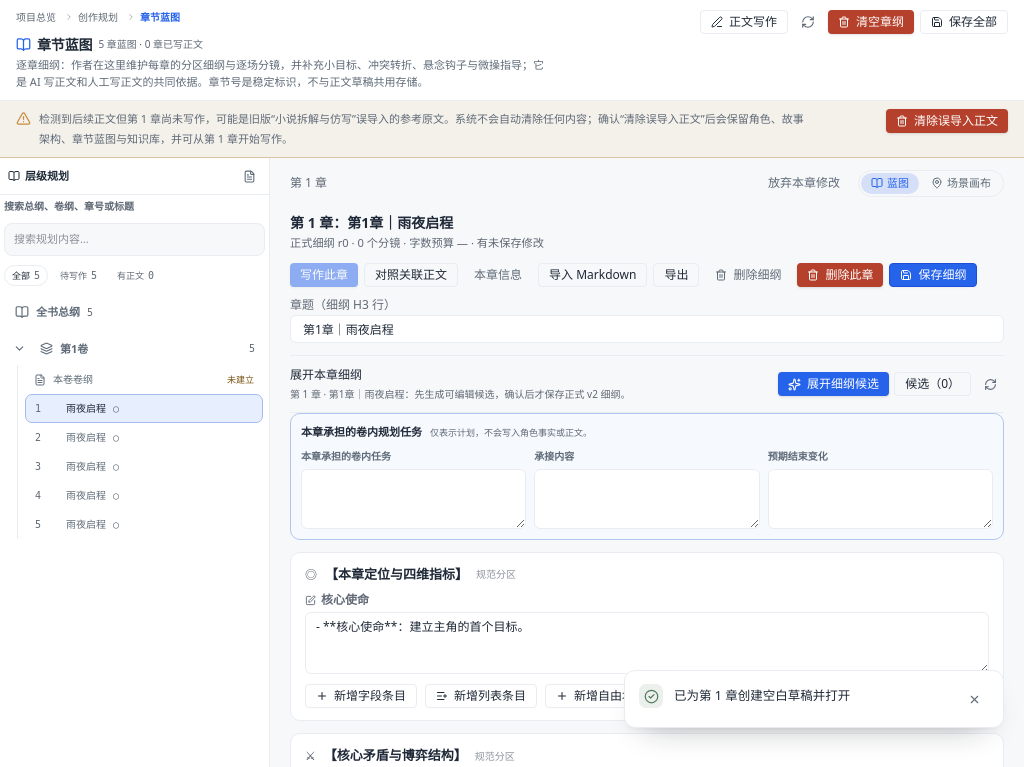
Test: ChapterCardEditor writing entry › requires explicit recovery before writing Chapter 1 when legacy-imported finalized text exists for Chapters 2 through 5
This screenshot has width=1024, height=767.
Expected: the text "新建第1章正文" is not shown
Click the button "清除误导入正文": (947, 121) [886, 109, 1008, 133]
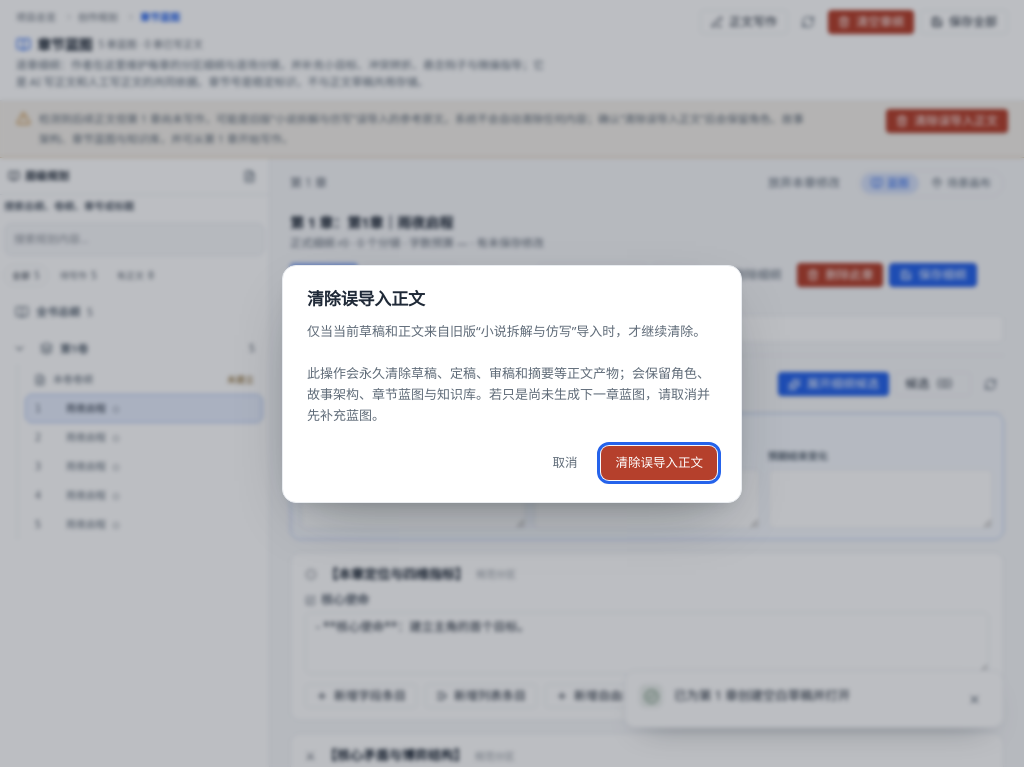
Expected: the dialog is shown, [282, 264, 742, 503]
Expected: the button "清除误导入正文" is shown
Click the button "清除误导入正文": (659, 464) [602, 446, 717, 480]
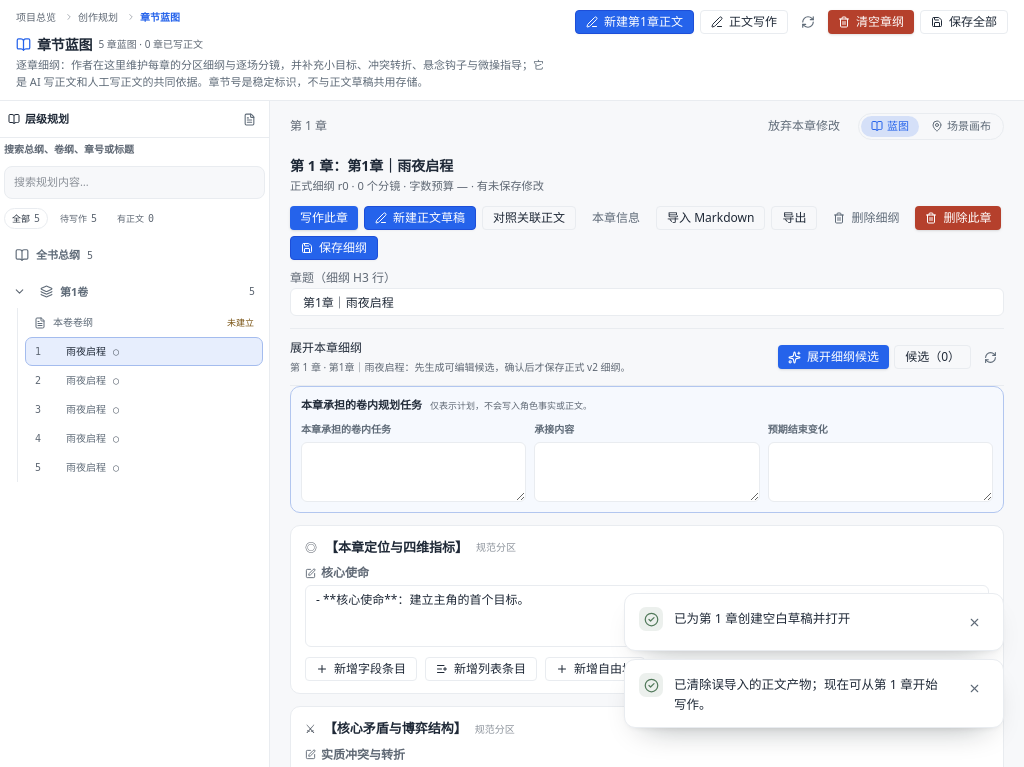
Expected: the text "新建第1章正文" is shown, [575, 10, 694, 34]
Expected: the text "检测到后续正文但第 1 章尚未写作" is gone
